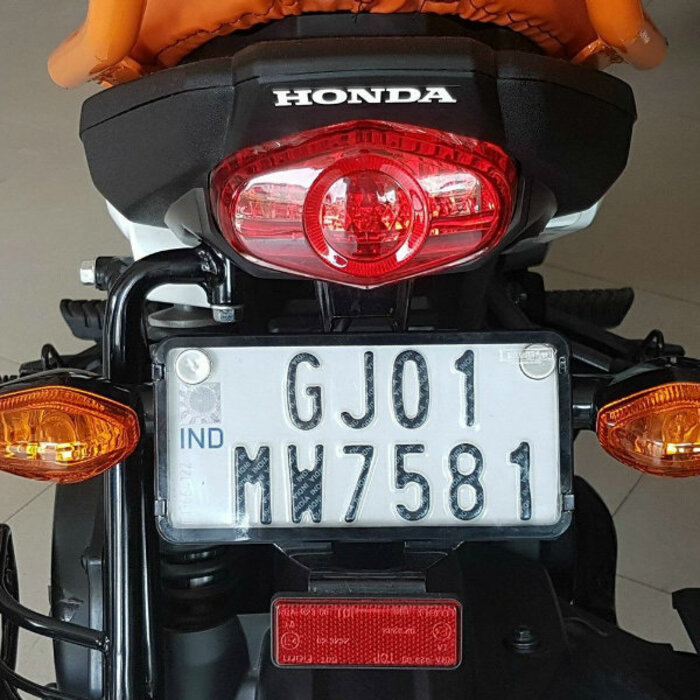n: (170, 351, 552, 521)
